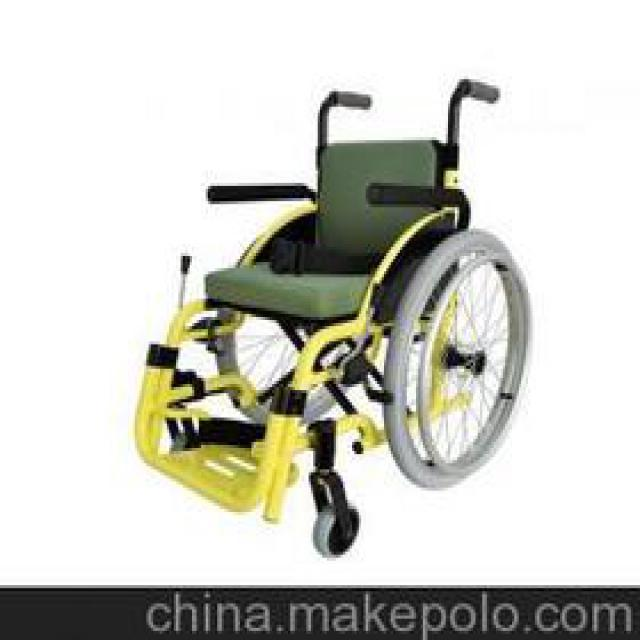wheelchair: (132, 67, 528, 576)
